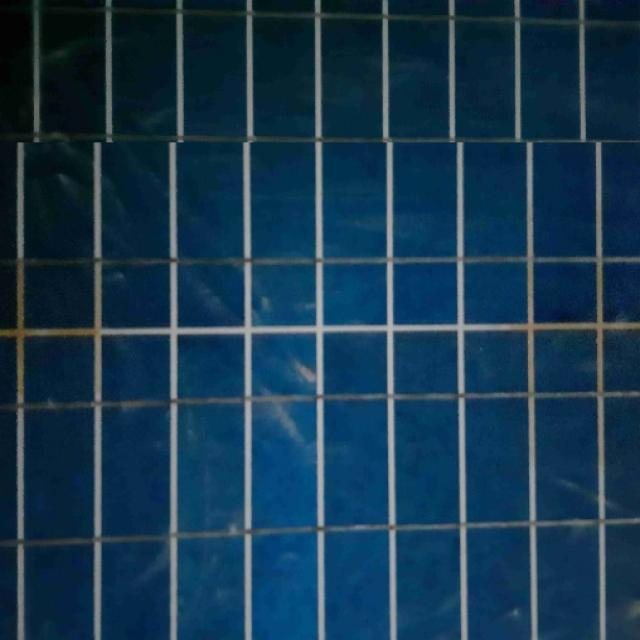Dirty: (0, 142, 640, 640)
